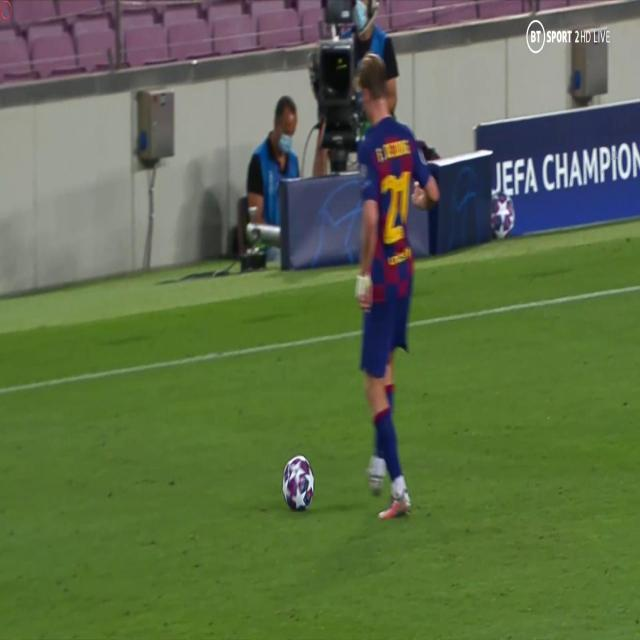ball: (277, 444, 321, 517)
player: (335, 17, 437, 523)
